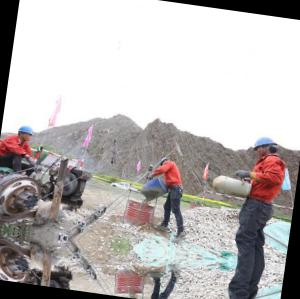helmet: (251, 132, 281, 162), (16, 123, 39, 145), (159, 157, 172, 170)
